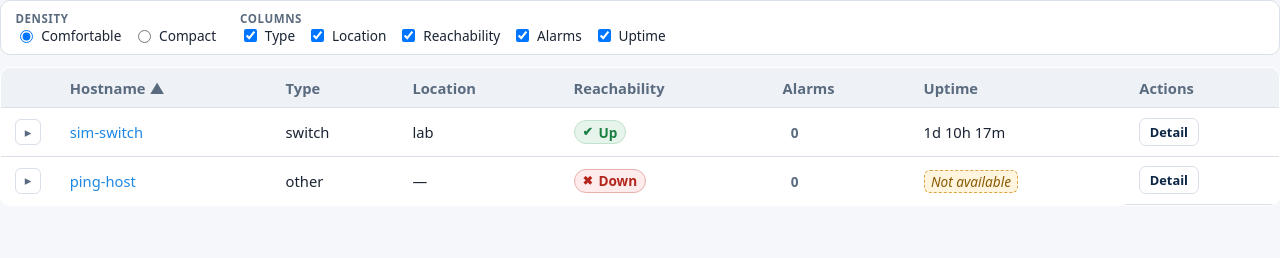
Test: DeviceTable (enhanced) › shows the ICMP-only honest note for a down ping host, never zeros
Click the button named "expand ping-host" at (28, 181), box [15,168,41,194]
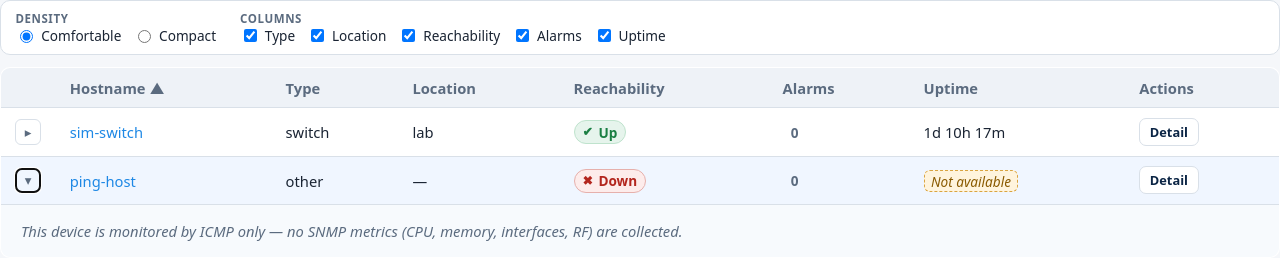
Result: the text "ICMP only" is shown at [21,221,682,241]
